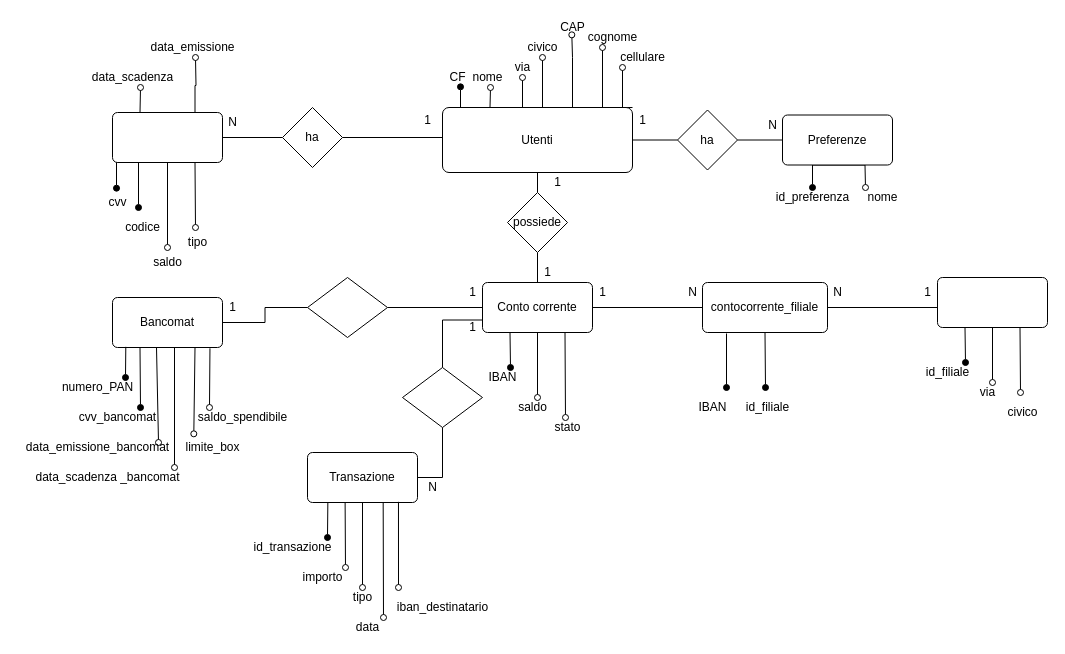
This 1065x654 diagram has some shape labels left out. The centre of each missing label's shape, as x and y in pixels:
"Carta prepagata" belongs at point 167,137.
"effettua" belongs at point 442,397.
"Filiale" belongs at point 992,302.
"è assegnato" belongs at point 347,307.
